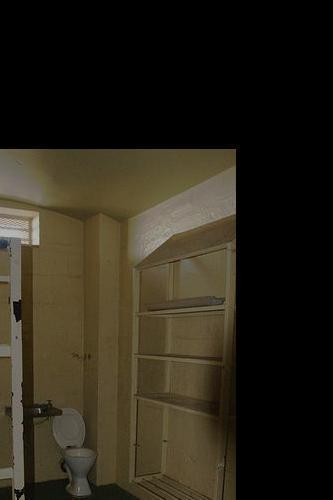Sanitario: (50, 408, 96, 500)
